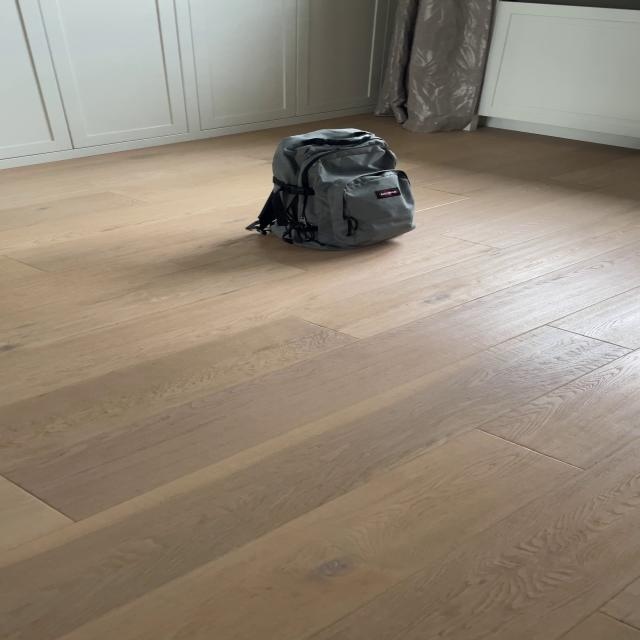backpack: (248, 122, 422, 258)
